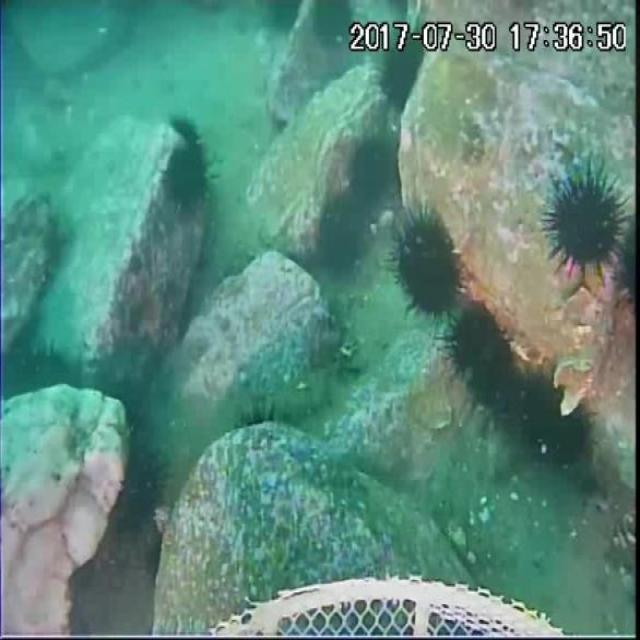echinus: (390, 206, 467, 314), (548, 176, 627, 280), (443, 301, 518, 404), (518, 378, 588, 470), (4, 336, 84, 404), (115, 440, 165, 536), (377, 32, 430, 104), (316, 203, 367, 268), (163, 151, 213, 209), (346, 140, 391, 197), (310, 0, 355, 47), (262, 0, 300, 29), (174, 118, 201, 150)
